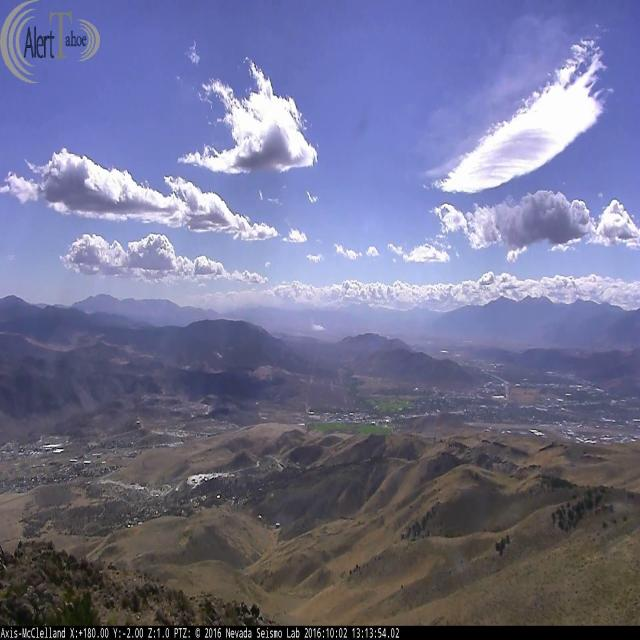smoke: (310, 319, 325, 330)
